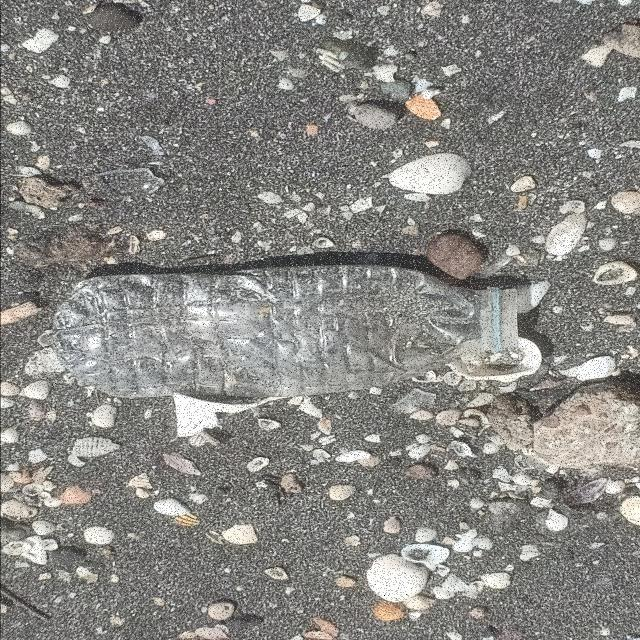plastic_waste: (49, 263, 521, 401)
